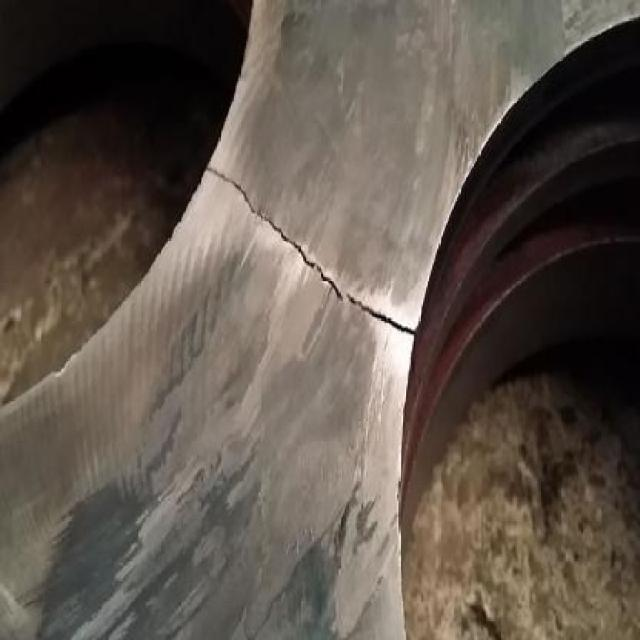crack: (202, 154, 428, 354)
